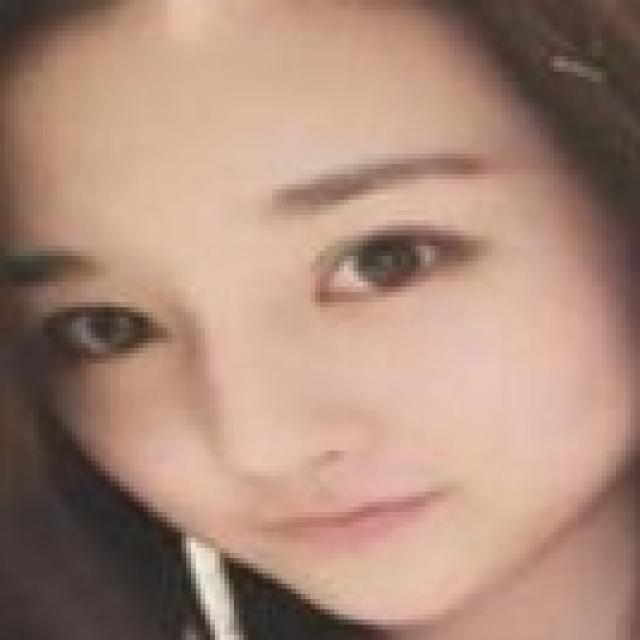no_mask: (24, 46, 640, 614)
